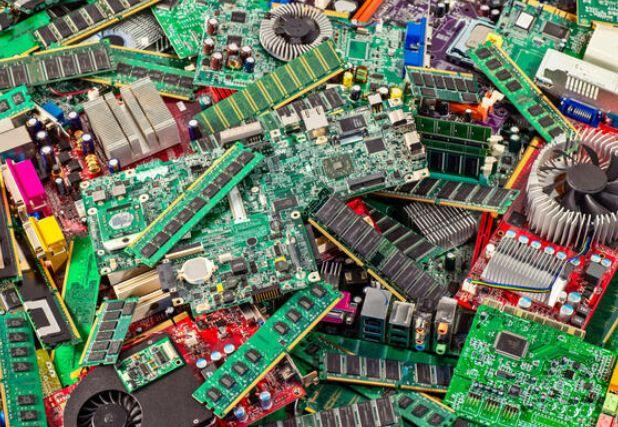electronic: (82, 71, 430, 319), (455, 120, 616, 333), (416, 2, 588, 103), (191, 1, 379, 92), (2, 97, 112, 243), (190, 45, 344, 137), (404, 62, 517, 182), (78, 158, 197, 270), (6, 1, 165, 61), (80, 78, 181, 170), (1, 268, 75, 357), (0, 40, 114, 94), (90, 44, 203, 98), (0, 311, 50, 426), (0, 87, 69, 169), (62, 367, 145, 427), (77, 298, 141, 371), (115, 330, 187, 393), (405, 66, 481, 108), (444, 16, 500, 72), (9, 1, 91, 27), (368, 0, 435, 29), (0, 19, 45, 62), (575, 1, 617, 29)
